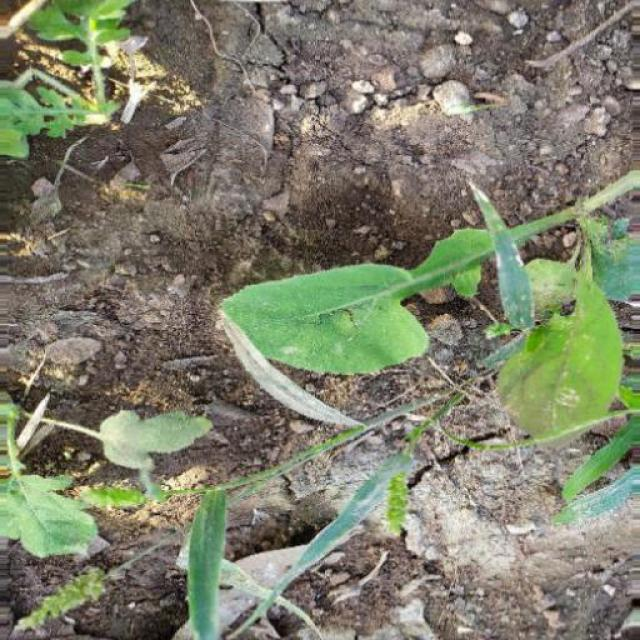weed: (186, 111, 640, 484), (1, 6, 168, 164)
